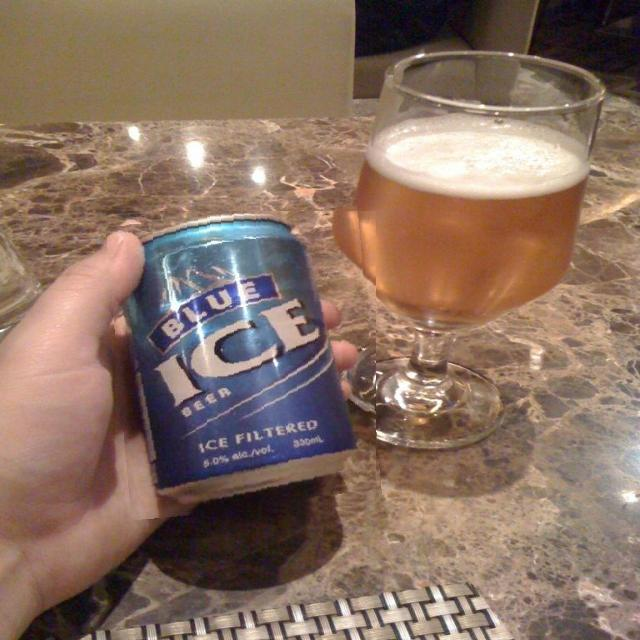recyclable: (112, 211, 376, 515)
